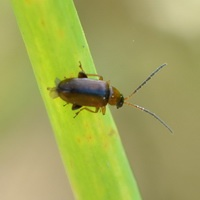insect: (47, 61, 172, 132)
